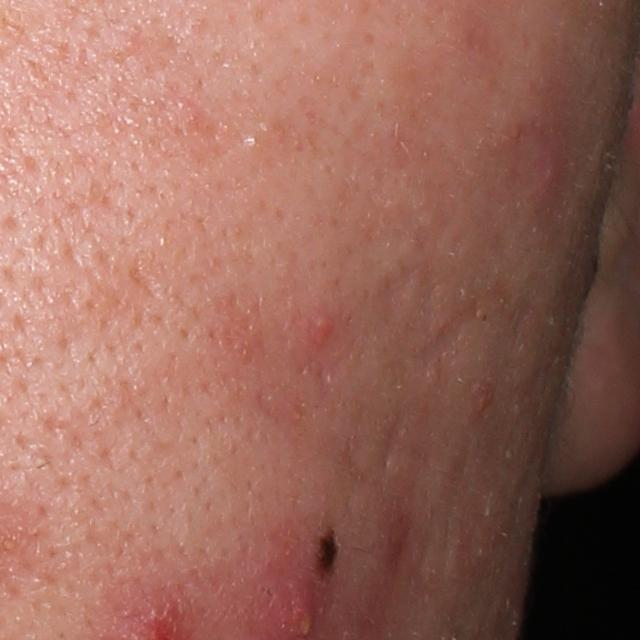atrophic_scar: (409, 313, 475, 372), (381, 413, 415, 473)
comedo: (239, 130, 258, 151)
nevus: (308, 523, 346, 583)
papule: (304, 305, 342, 344), (467, 380, 497, 420)
